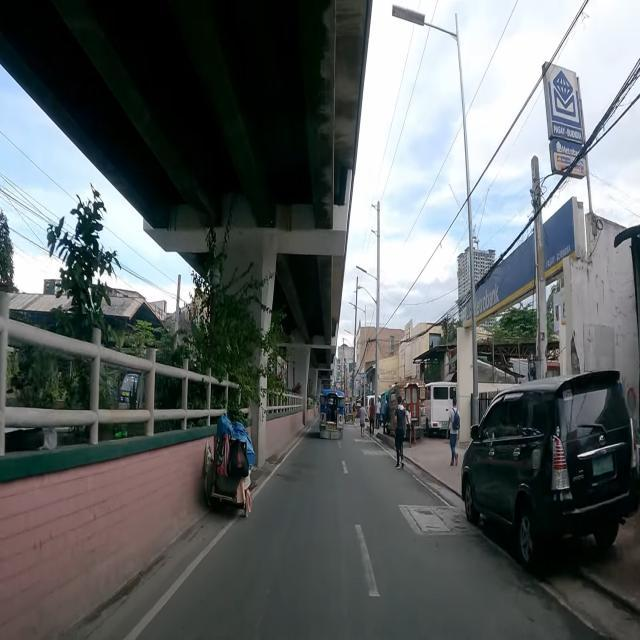car: (460, 370, 640, 570)
jeepney: (384, 380, 426, 442), (320, 388, 346, 439)
truck: (424, 382, 458, 439)
